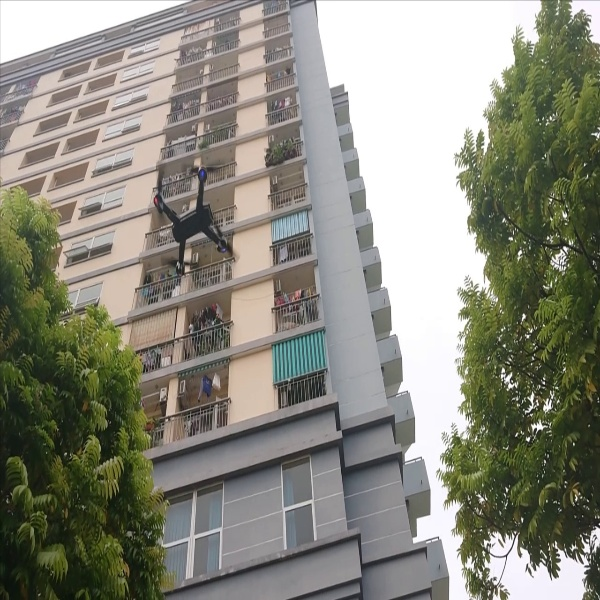drone: (147, 163, 237, 287)
